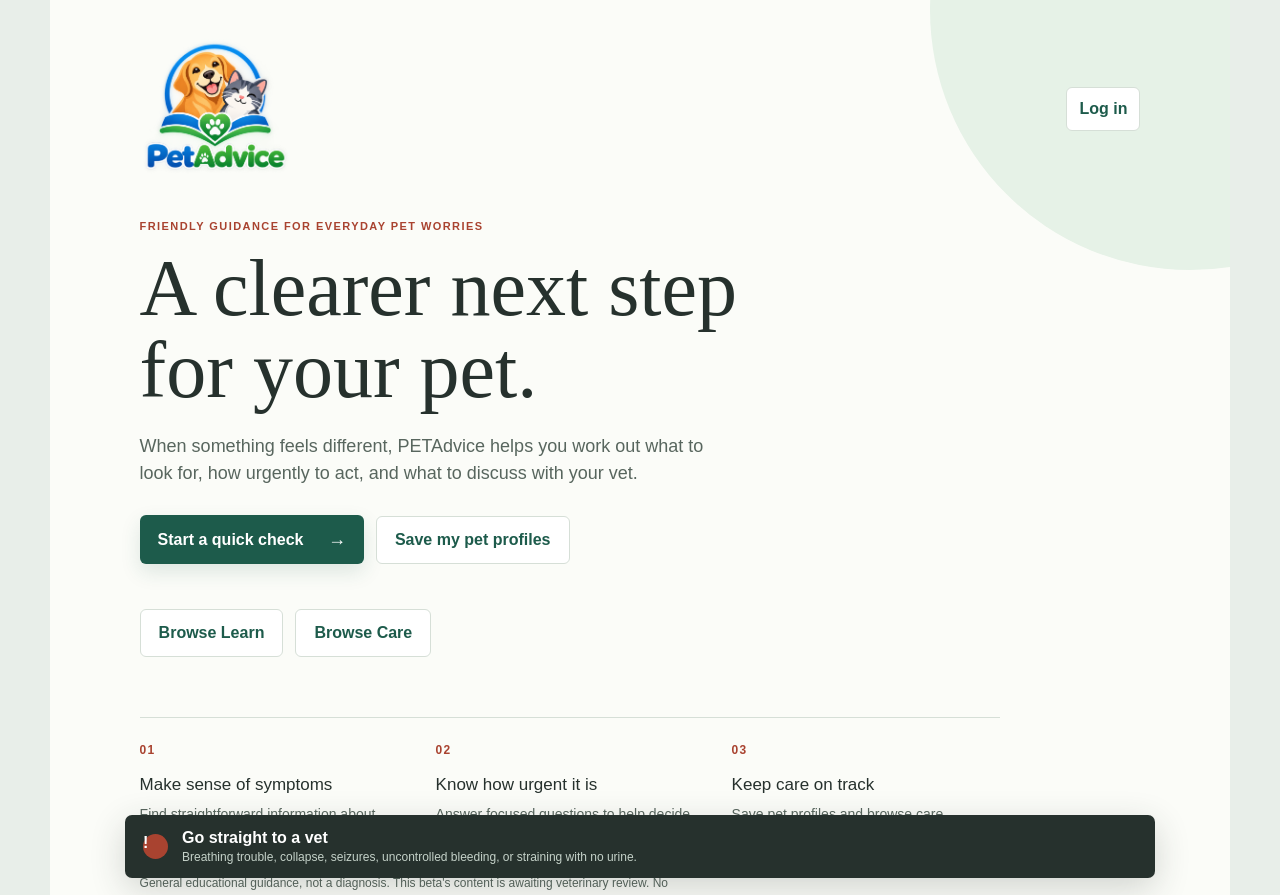
Scenario: guests browse species-specific learning and care without creating a profile
The image size is (1280, 895).
Click the button "Browse Learn" at (212, 633), box [140,609,283,657]
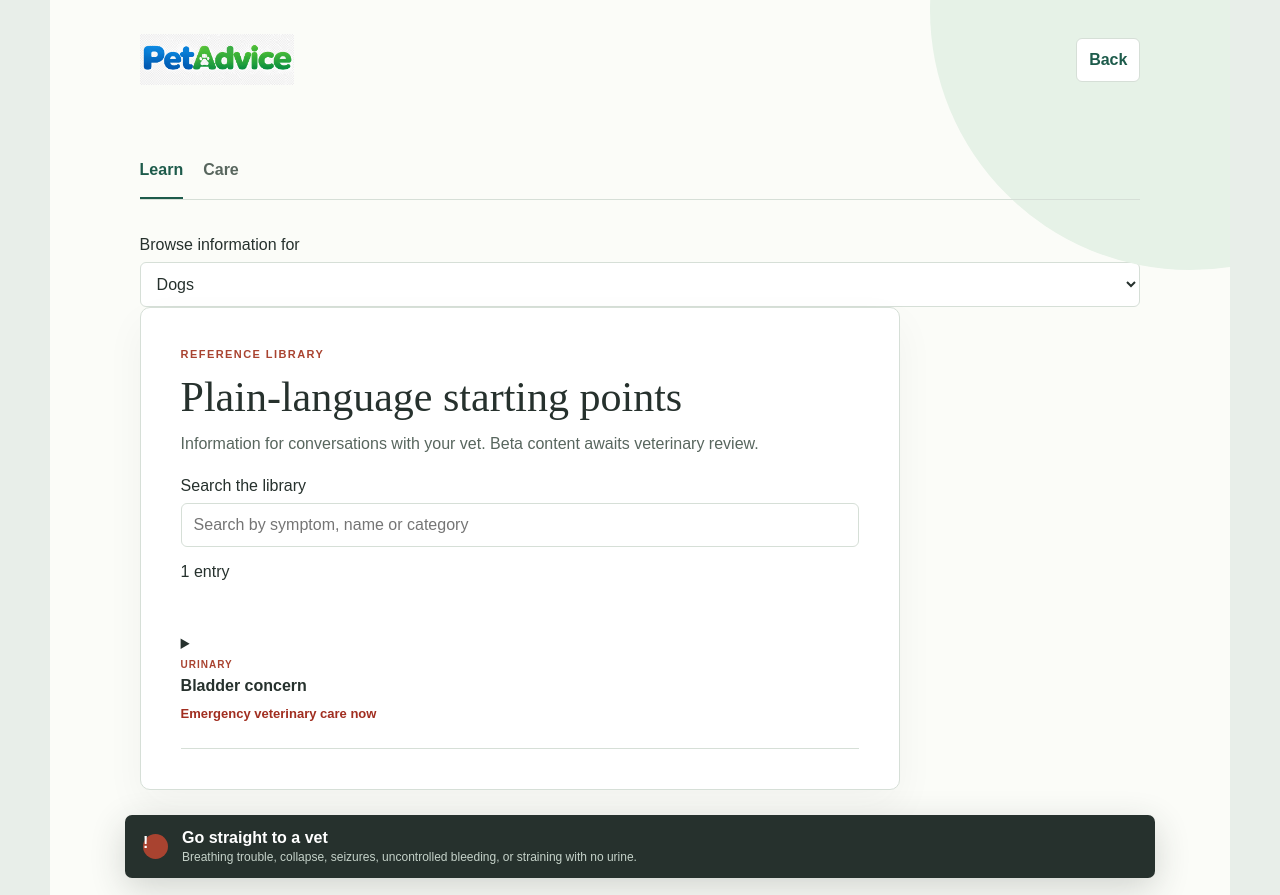
Select "Cats" in the dropdown labelled "Browse information for" at (640, 285), box [140,262,1140,307]
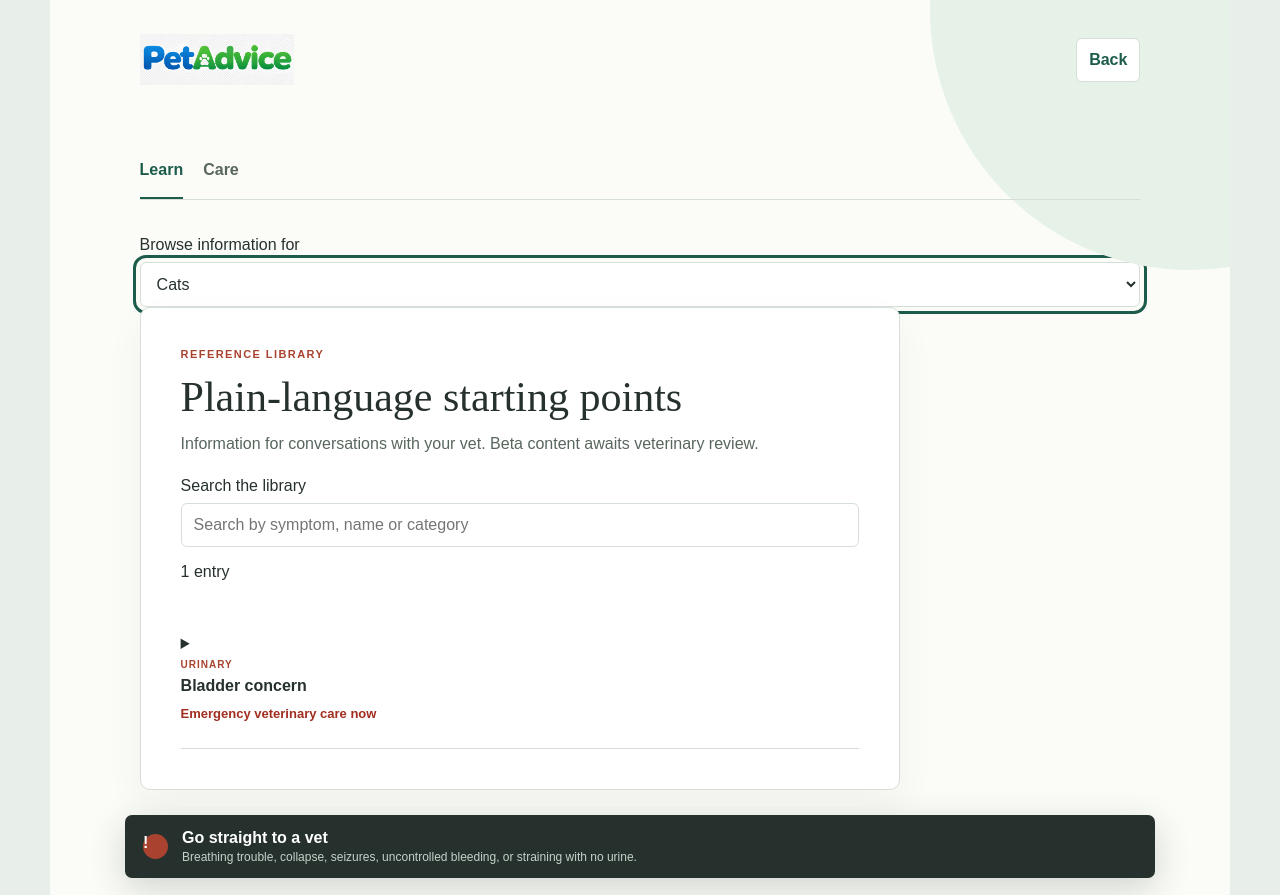
Type "straining" into the search field at (520, 525), box [181,503,859,547]
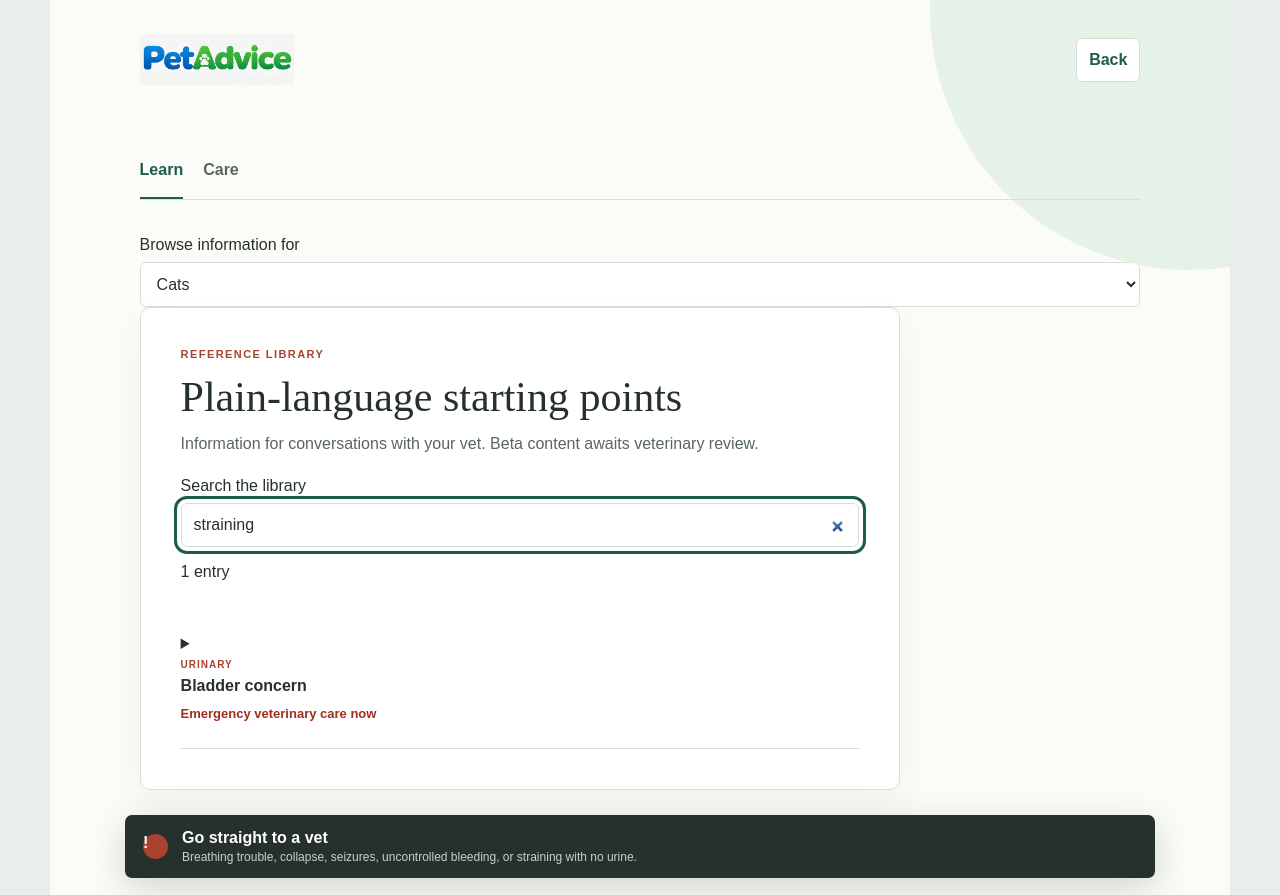
Now the text "Bladder concern" is shown, box [181,677,307,694]
Click the button "Care" at (221, 177), box [203,155,239,199]
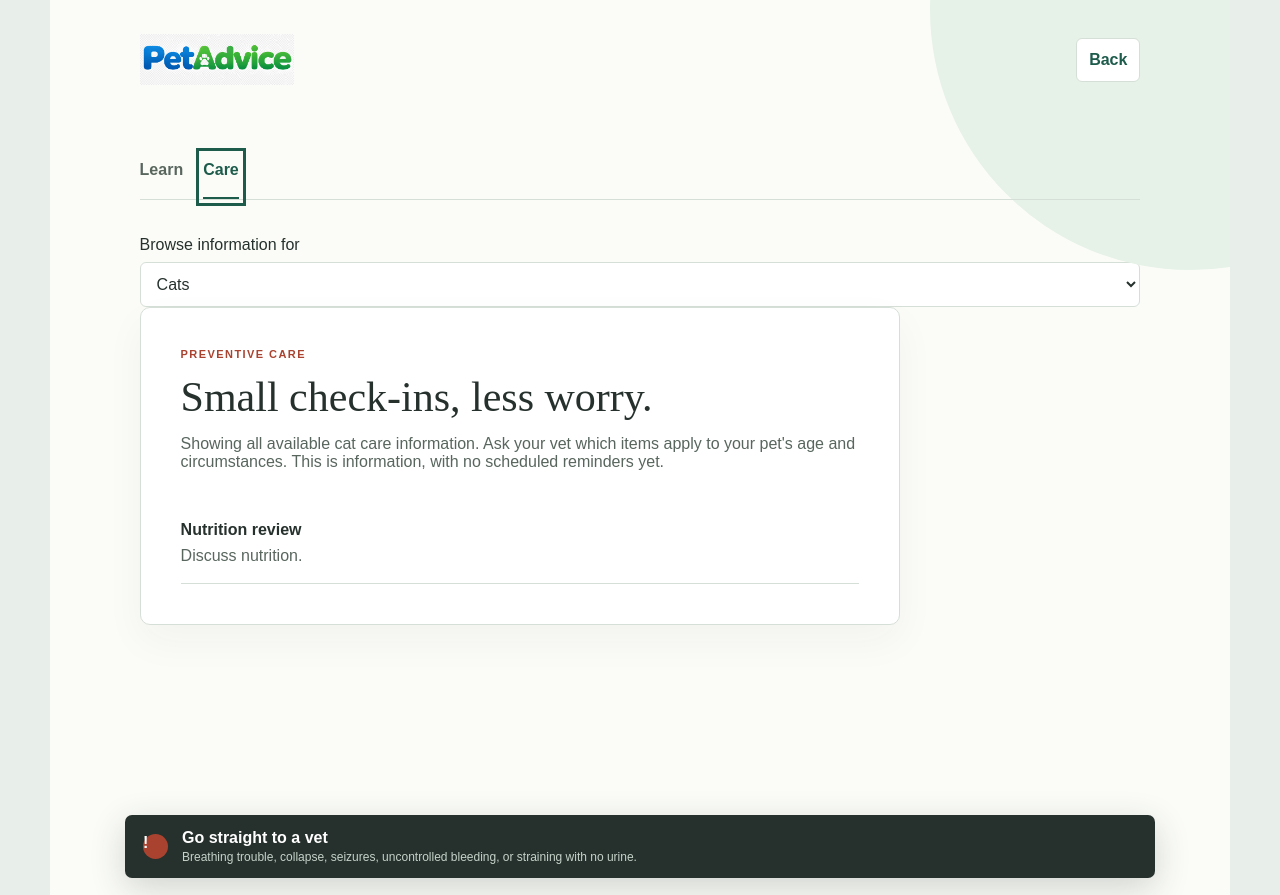
Now the text "Discuss nutrition." is shown, box [181,544,302,568]
